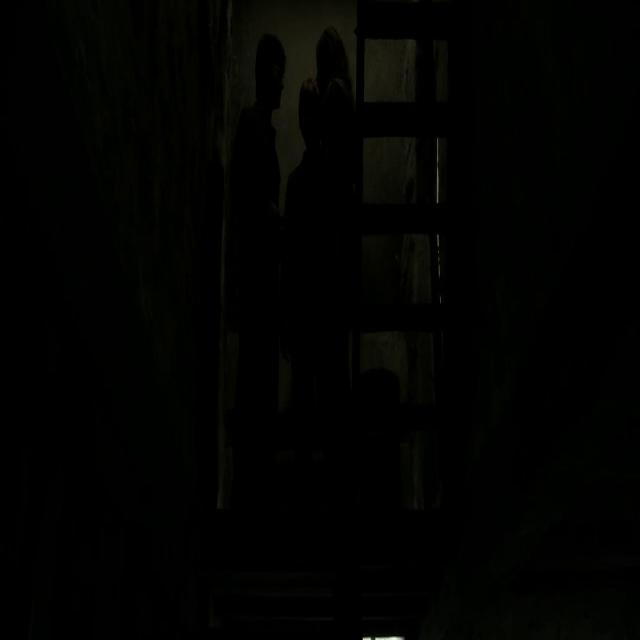People: (241, 11, 310, 401), (316, 7, 359, 384), (298, 68, 339, 376)
